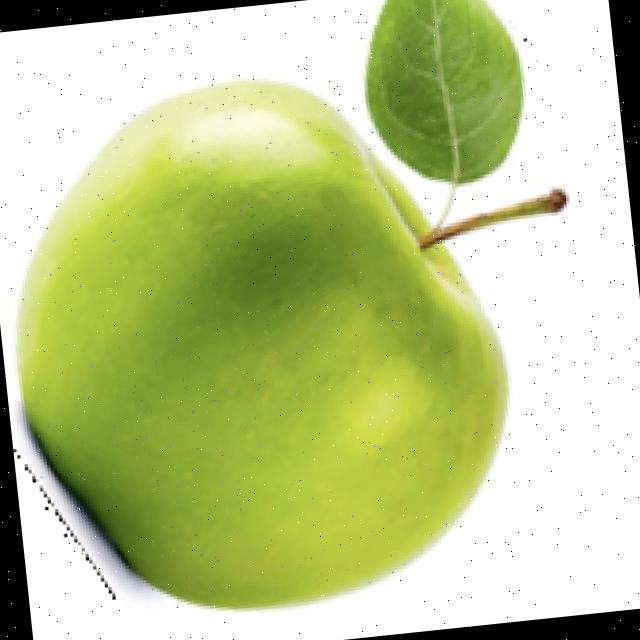apple: (10, 0, 572, 614)
